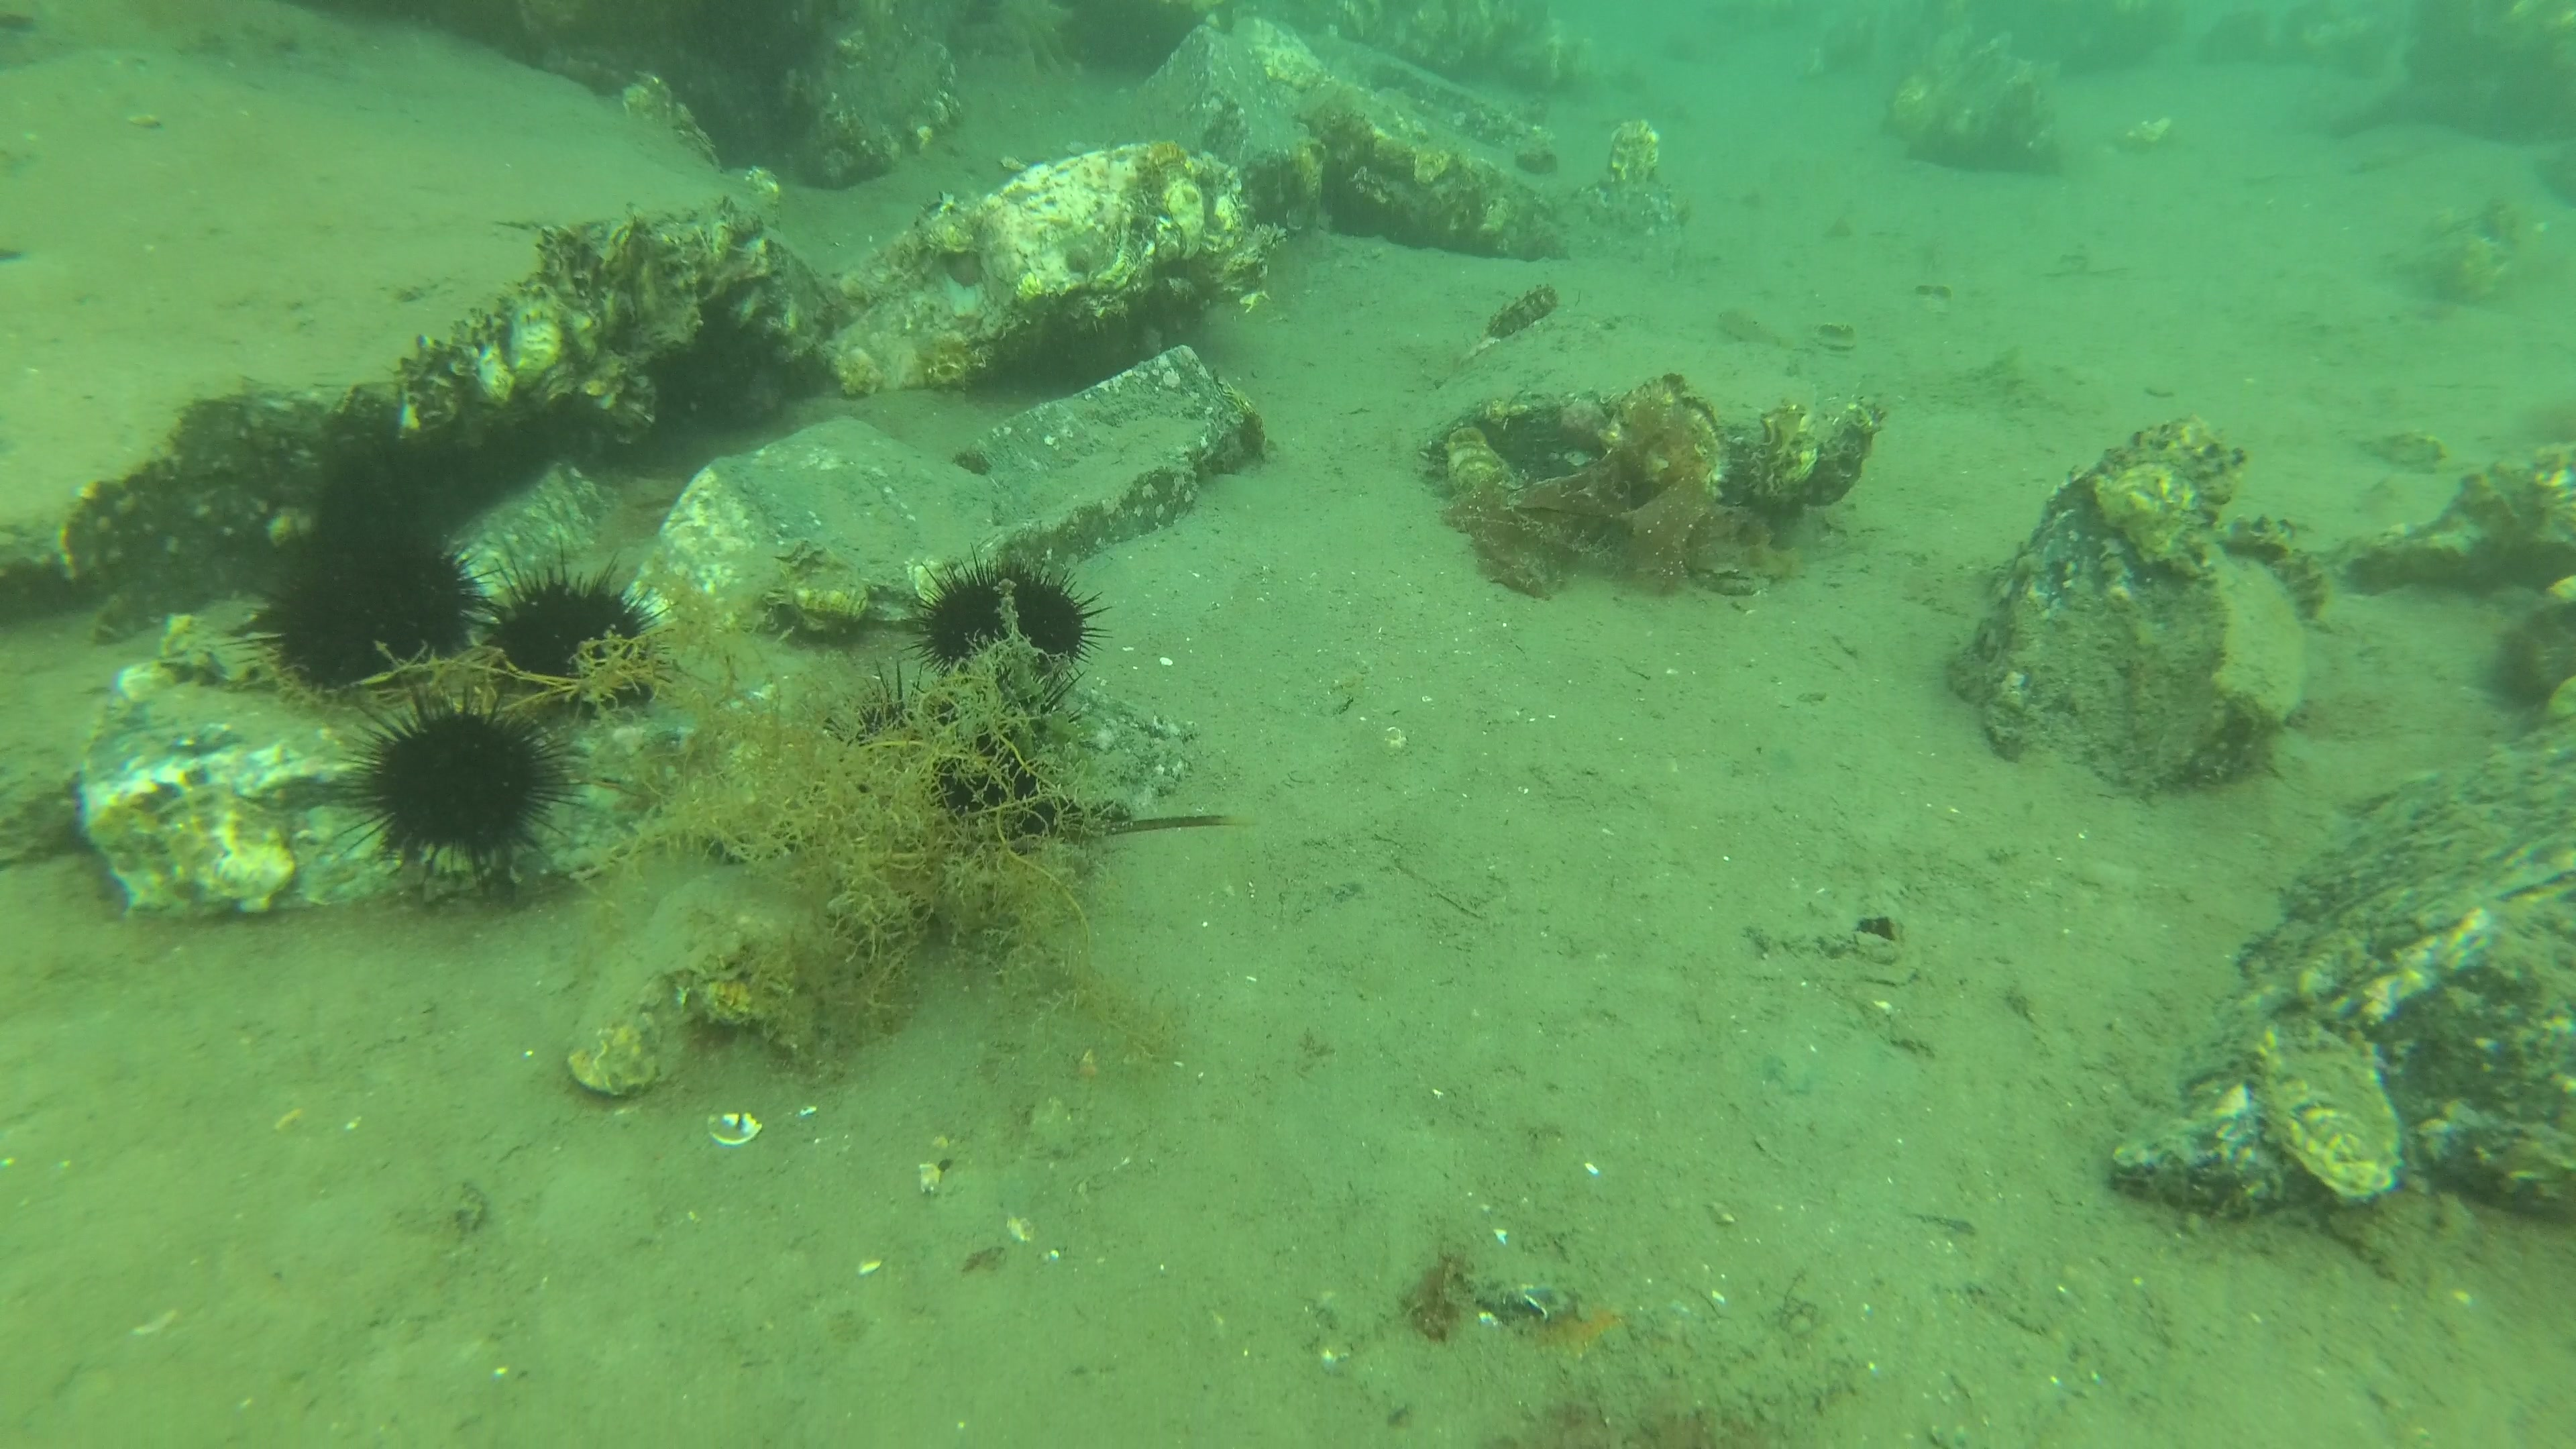echinus: (327, 688, 600, 893), (218, 508, 492, 702), (465, 540, 685, 717), (890, 538, 1122, 701), (920, 720, 1104, 863), (816, 663, 938, 782)
